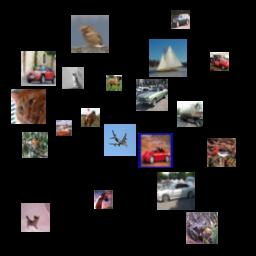airplane: (104, 124, 136, 156)
automobile: (157, 172, 195, 210), (21, 51, 56, 86), (138, 133, 173, 168), (136, 79, 168, 111), (171, 10, 190, 29), (210, 52, 229, 71)
bird: (71, 15, 109, 53), (207, 138, 236, 167), (22, 132, 48, 158)
cat: (11, 89, 46, 124), (21, 203, 50, 232), (62, 67, 84, 89)
dog: (106, 75, 122, 91)
frog: (186, 212, 218, 244)
ship: (149, 39, 187, 77), (56, 120, 72, 136)
truck: (177, 101, 203, 127)
